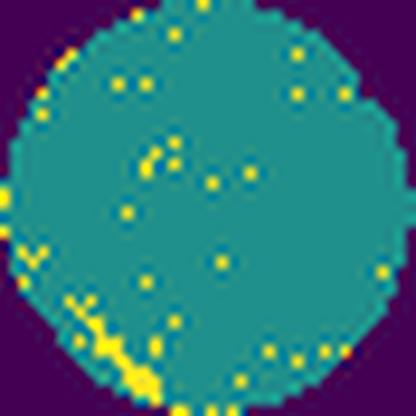Loc: (62, 293, 163, 401)
